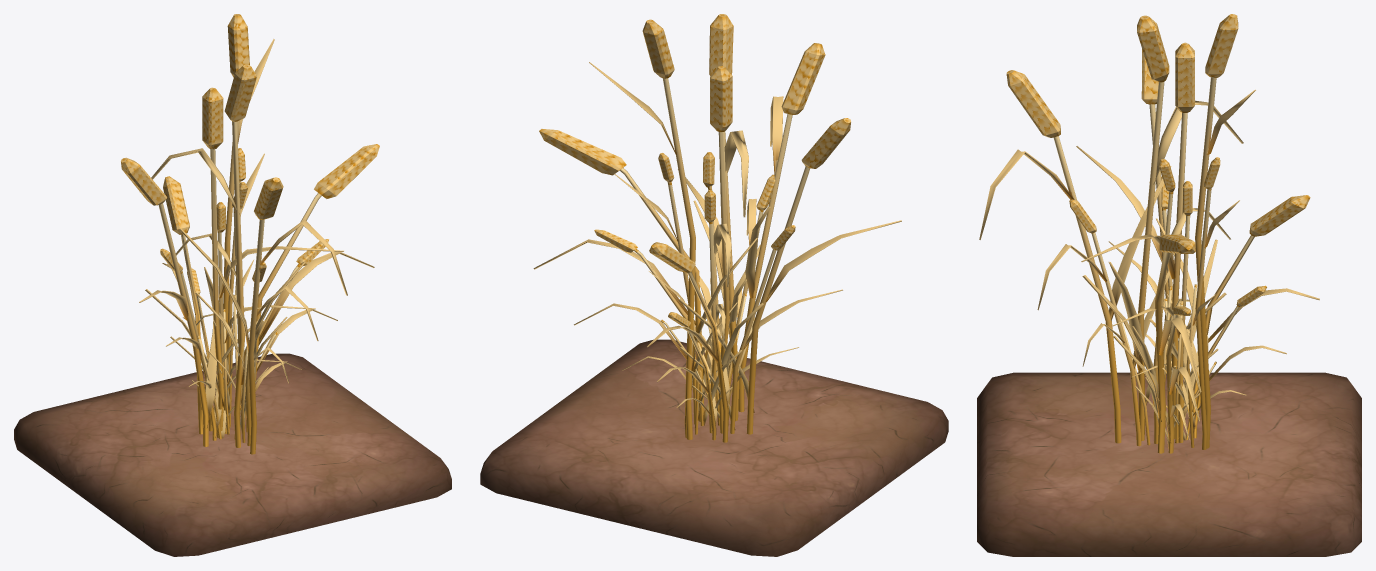
The model's file is Buday.fbx.
3 renders of one model, left to right at view 1: azimuth 30°, elevation 25°; view 2: azimuth 150°, elevation 25°; view 3: azimuth 270°, elevation 25°, orthographic. The views are drawn at different scales.
Visible parts, largest first — view 1: Soil_Buday, Buday3, Buday2, Buday1; view 2: Soil_Buday, Buday3, Buday2, Buday1; view 3: Soil_Buday, Buday3, Buday2, Buday1.
Part boxes in pixels (left/top/right/bottom): Soil_Buday: left=14, top=353, right=451, bottom=556; Buday3: left=121, top=14, right=379, bottom=454; Buday2: left=160, top=148, right=337, bottom=445; Buday1: left=188, top=260, right=301, bottom=442; Soil_Buday: left=480, top=339, right=948, bottom=556; Buday3: left=533, top=14, right=901, bottom=442; Buday2: left=574, top=152, right=842, bottom=440; Buday1: left=622, top=271, right=798, bottom=434; Soil_Buday: left=977, top=372, right=1361, bottom=556; Buday3: left=979, top=14, right=1319, bottom=453; Buday2: left=1037, top=157, right=1286, bottom=453; Buday1: left=1082, top=284, right=1246, bottom=448.
Bounding box in the file's own units: 166 × 223 × 162.
